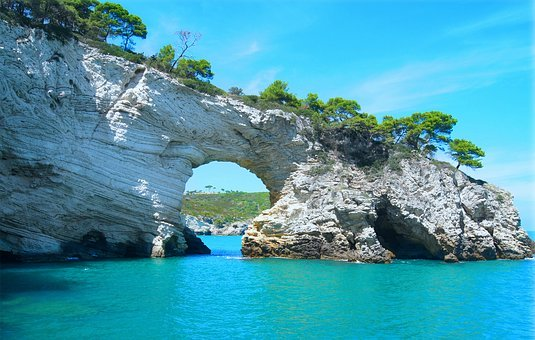sea: (7, 235, 535, 339)
sky: (167, 2, 535, 93)
stone: (1, 93, 506, 250)
tree: (92, 4, 148, 58), (403, 100, 459, 154), (436, 123, 492, 177)
